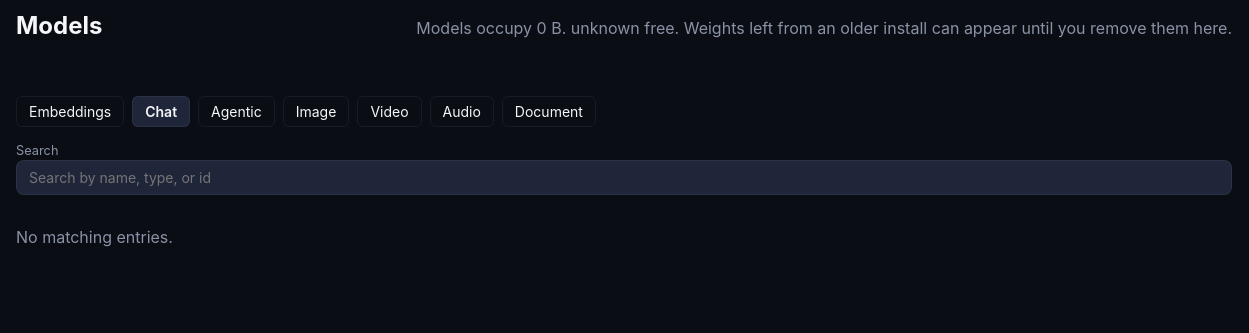
Test: ModelsSettings › places audio models on the Audio tab
Click the tab with test id "models-tab-audio". click: (462, 112)
box: [430,96,494,127]
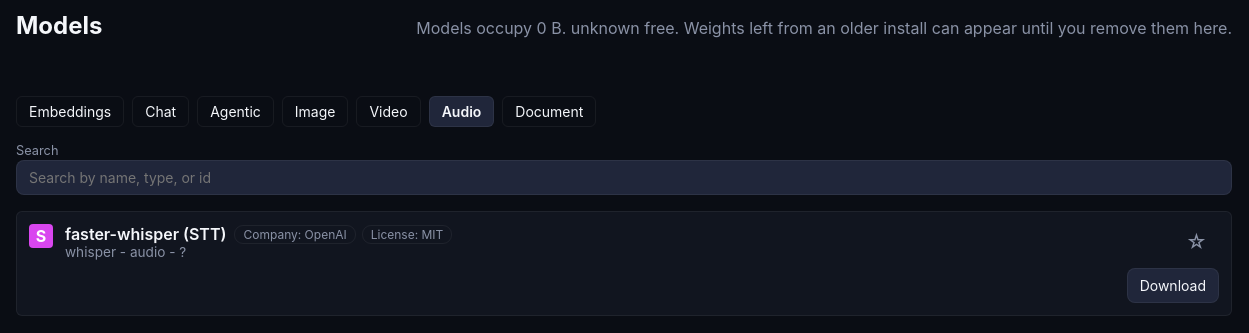
Result: the text "S" is shown at [29,224,53,248]
Result: the list item with test id "models-row-faster-whisper" is shown at [16,211,1232,316]
